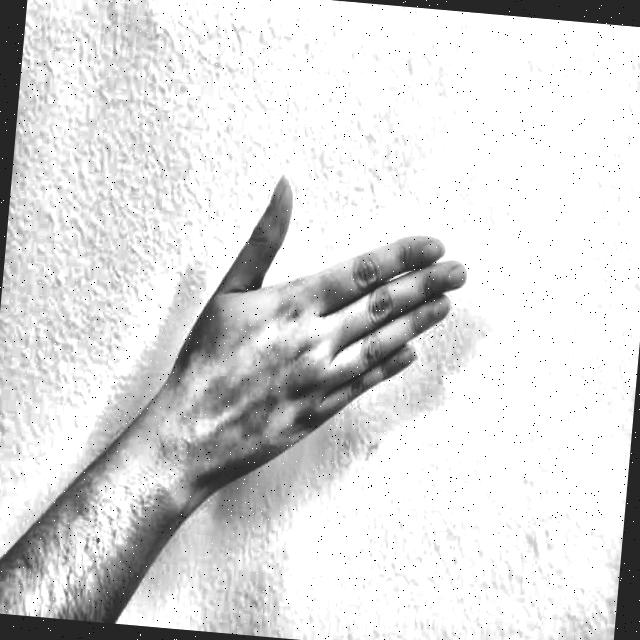Aa: (158, 153, 502, 552)
